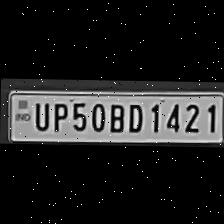0: (88, 100, 106, 132)
1: (143, 100, 161, 132), (201, 100, 219, 132)
2: (180, 100, 200, 134)
4: (160, 99, 180, 133)
5: (66, 99, 88, 132)
B: (106, 100, 127, 132)
D: (124, 100, 144, 133)
P: (48, 99, 68, 131)
U: (30, 99, 50, 130)
